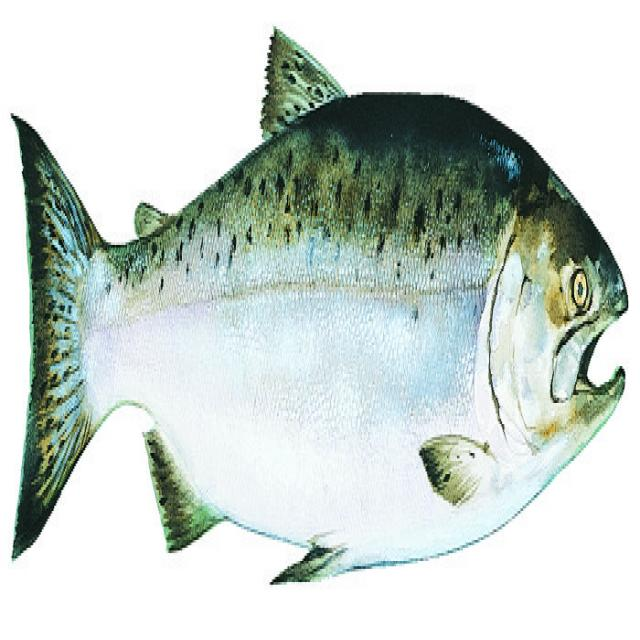salmon: (8, 31, 630, 602)
